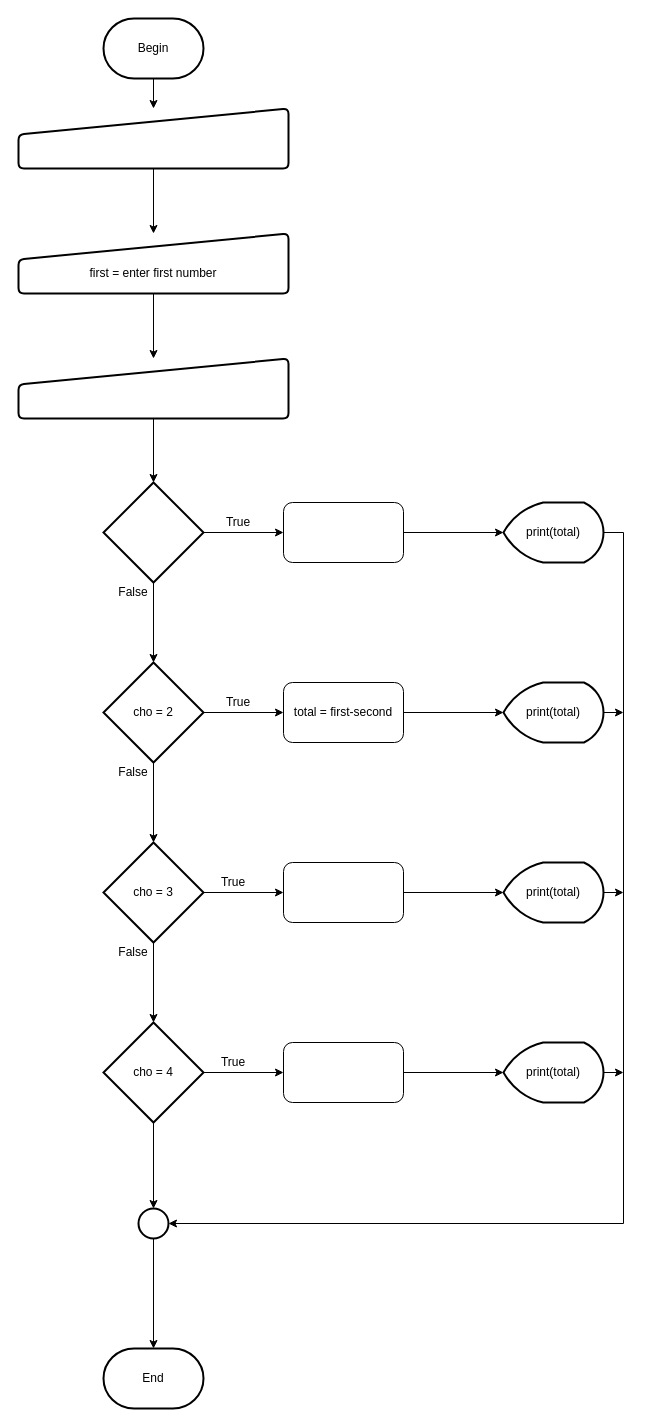
This 649x1426 diagram has some shape labels left out. The centre of each missing label's shape, as x and y in pixels:
cho = 1: the point at 153,532
cho = select operation form 1,2,3,4: the point at 153,138
second = enter second number: the point at 153,388
total = first*second: the point at 343,892
total = first+second: the point at 343,532
total = first/second: the point at 343,1072
